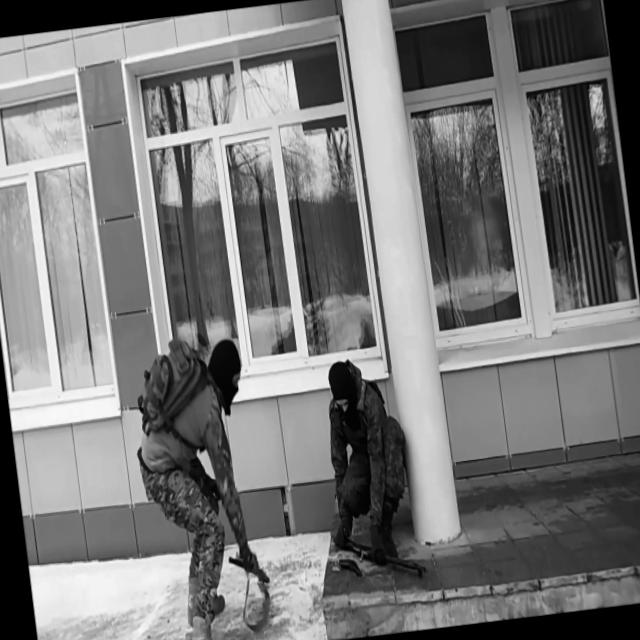gun: (332, 520, 428, 588), (226, 543, 272, 594), (337, 552, 364, 581)
person with a gun: (122, 324, 278, 640), (312, 350, 428, 586)
